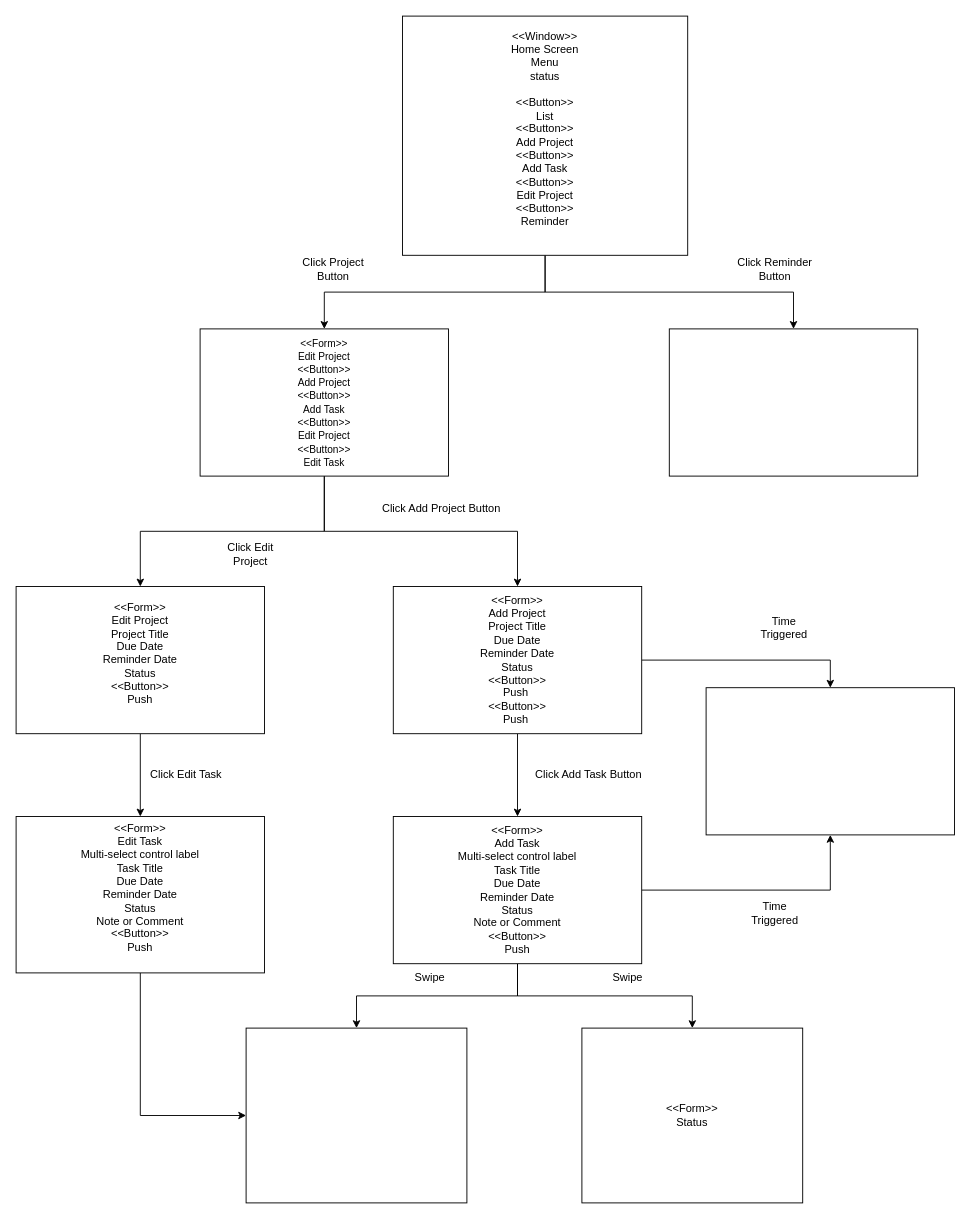
Image size: 971x1219. Some labels were removed from this diagram. Each missing label, with the box of its shape:
<<Form>> Multi-select control label: (245, 1027, 467, 1203)
<<Form>> Reminder <<Button>> Filter: (668, 328, 918, 476)
<<Report>> The project-task is about to ended. <<Report>> The project is ended.: (705, 687, 954, 835)
